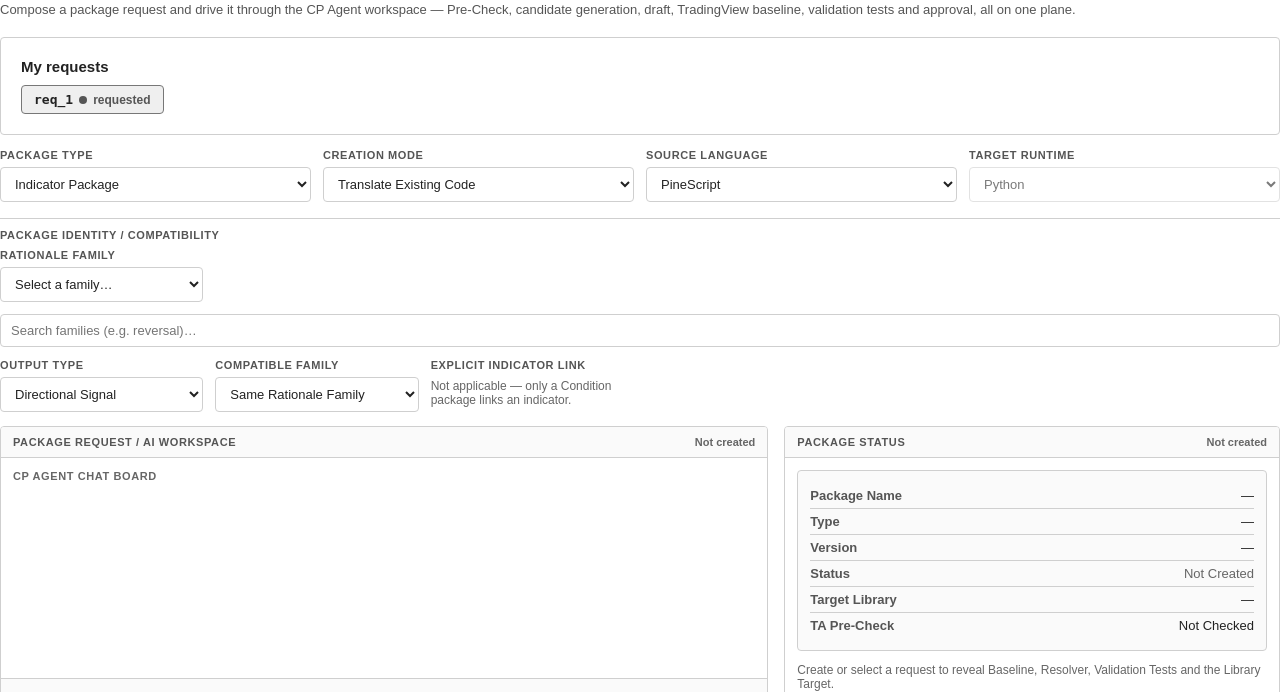
Test: Create Package page › runs Pre-Check with the OCC version header and a fresh Idempotency-Key
Expected: the text "req_1" is shown, [34,92,73,107]
Click the button "req_1 requested": coordinates (92, 100) [21,85,164,114]
(page scrolled)
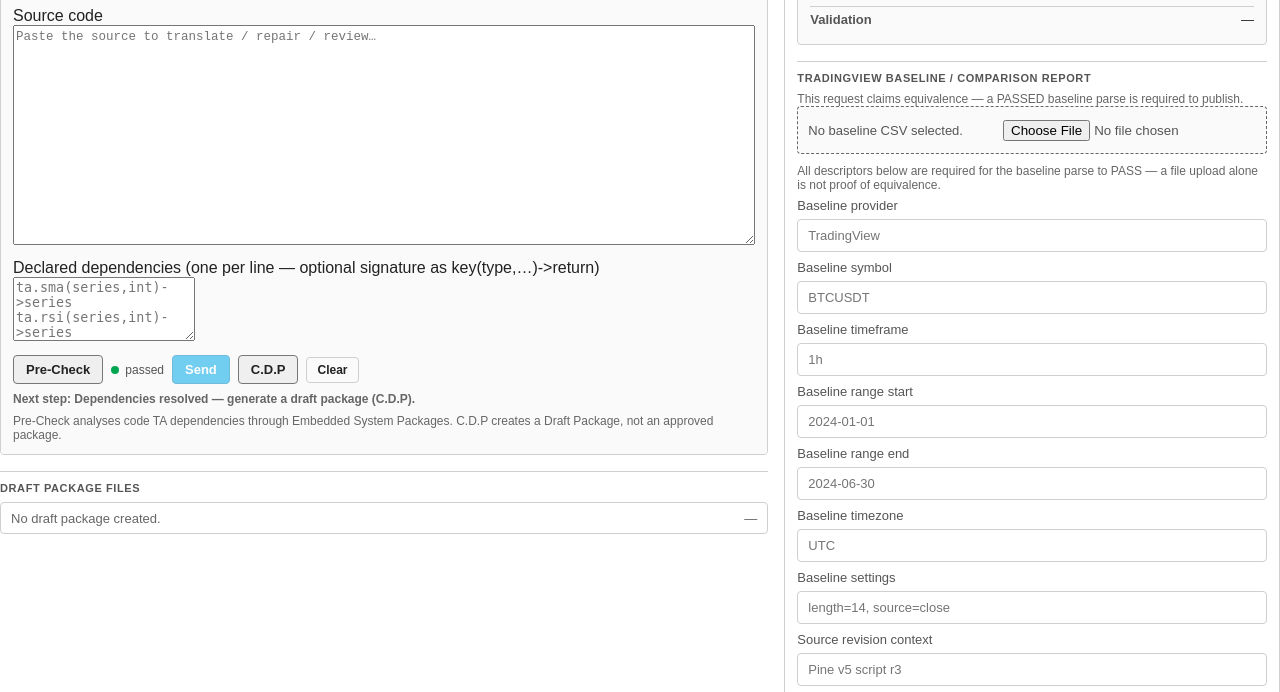
Expected: the button "Pre-Check" is enabled
Click the button "Pre-Check": coordinates (58, 370) [13,355,103,384]
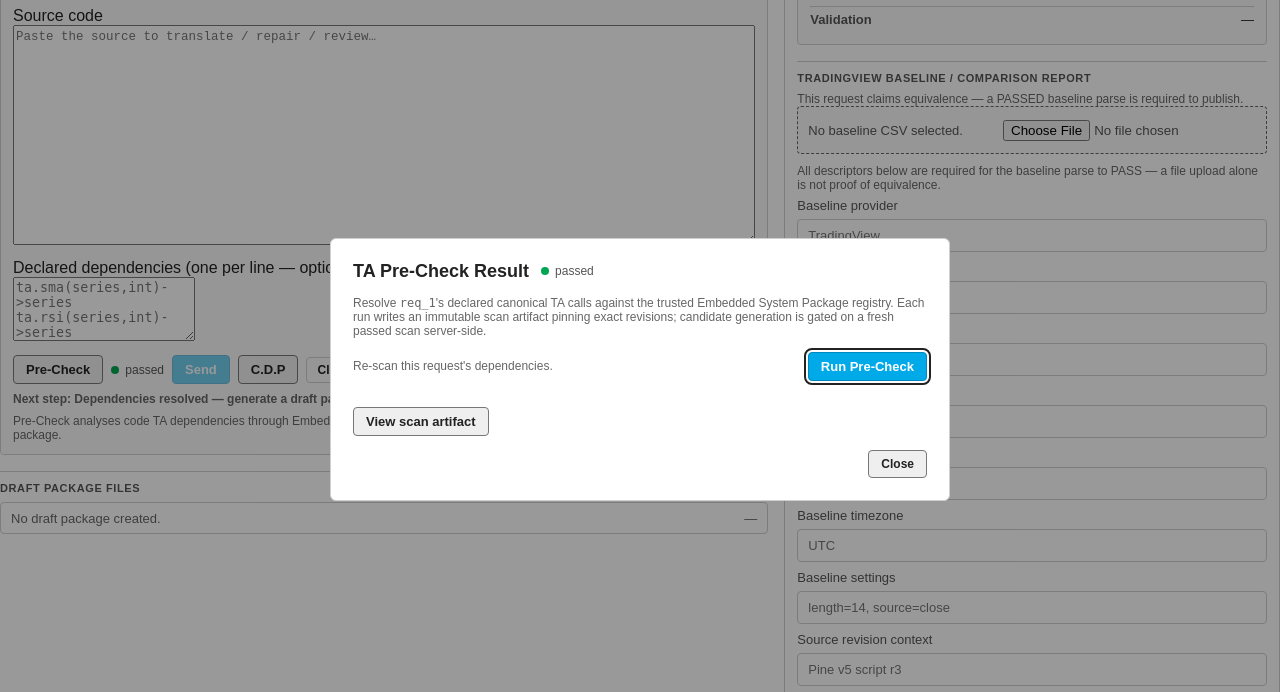
Click the button "Run Pre-Check": coordinates (867, 366) [808,352,927,380]
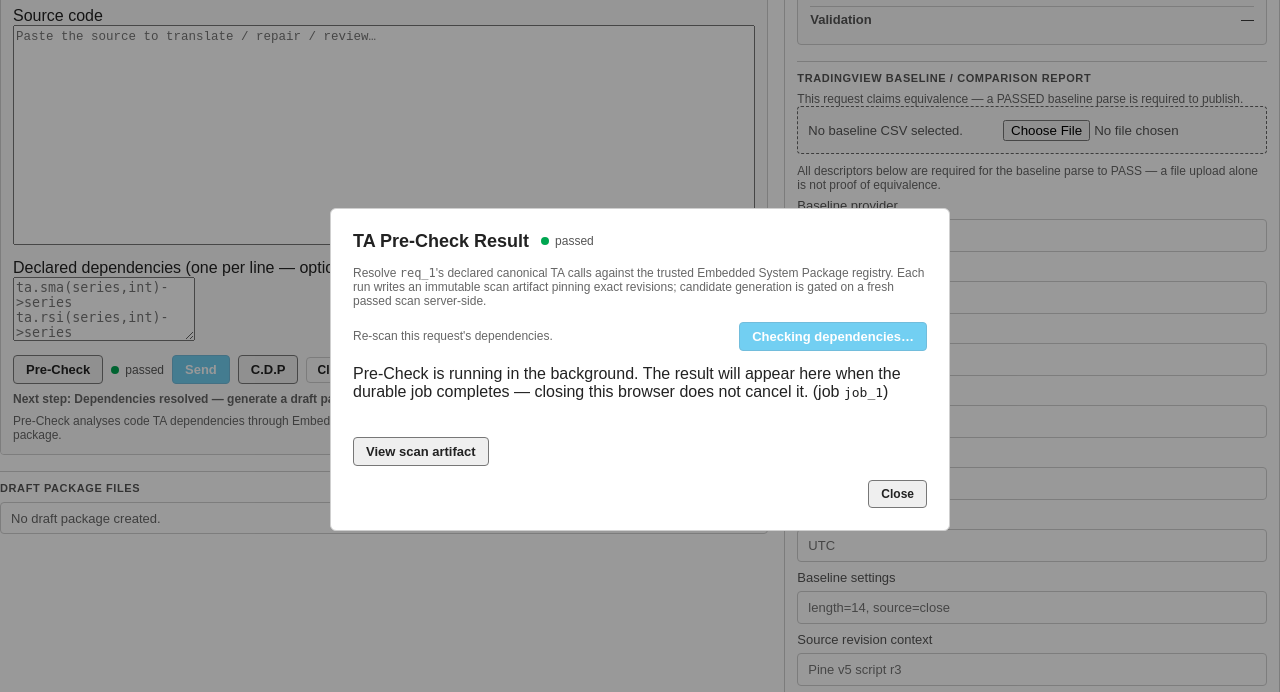
Expected: the text "Pre-Check is running in the background" is shown, [353,364,901,400]
Expected: the text "job_1" is shown, [844,384,883,400]
